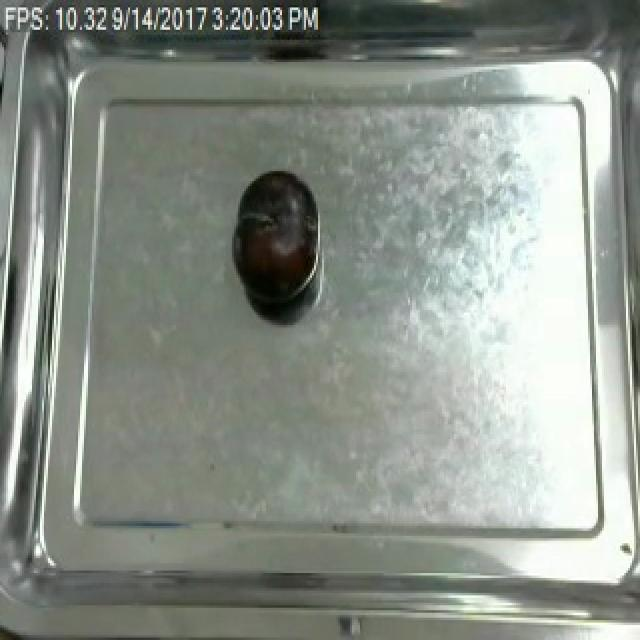Fruit: (228, 166, 318, 310)
